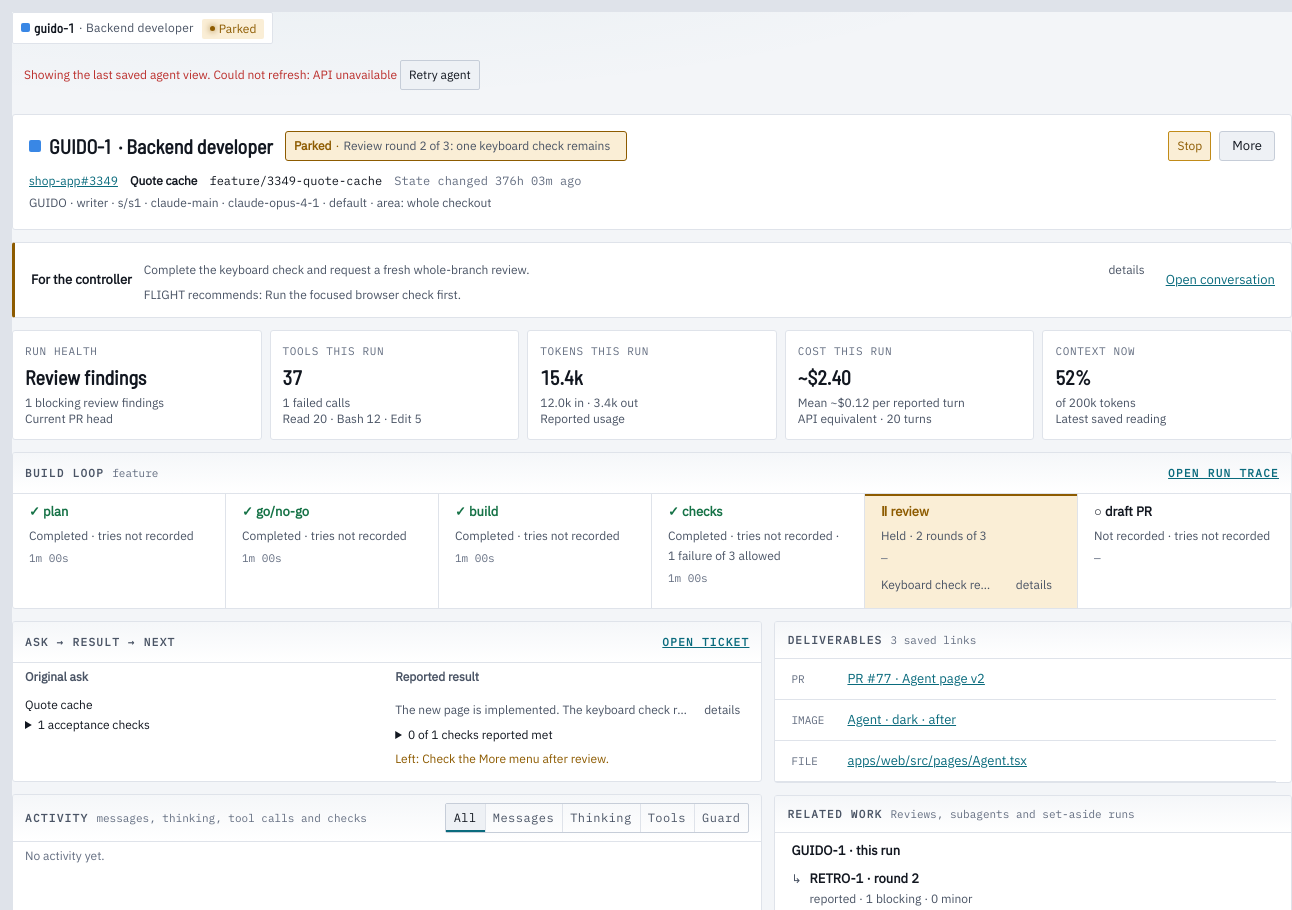
Test case: preserves the previous view with a stale reason and refreshes it without SSE
The width and height of the screenshot is (1292, 910).
Expected: the text "For the controller" is shown, [31, 270, 132, 290]
Expected: the text "Showing the last saved agent view" is shown, [24, 66, 313, 82]
Click the button "Retry agent" at [440, 74], box [400, 60, 480, 90]
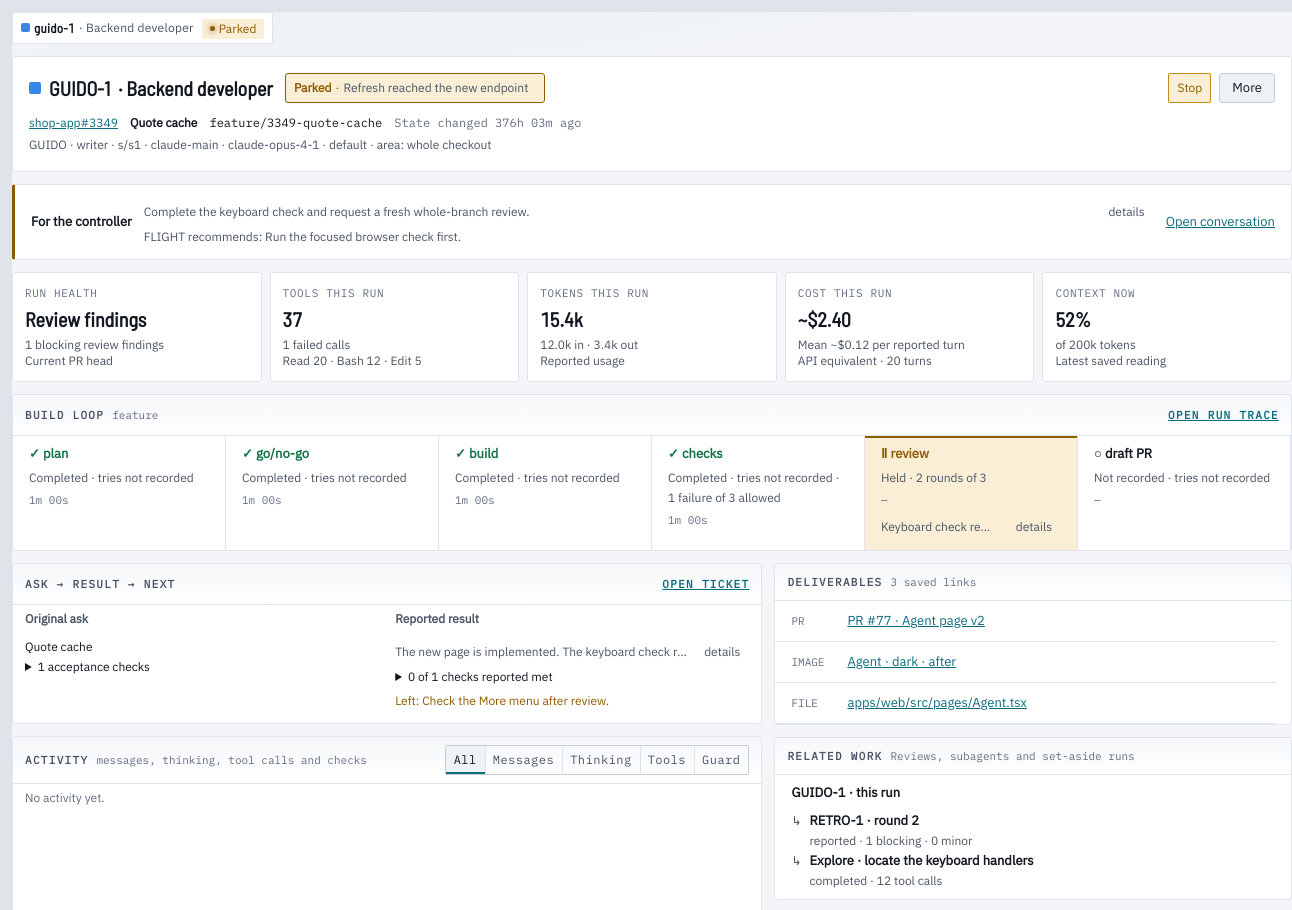
Expected: the text "Refresh reached the new endpoint" is shown, [344, 78, 528, 98]
